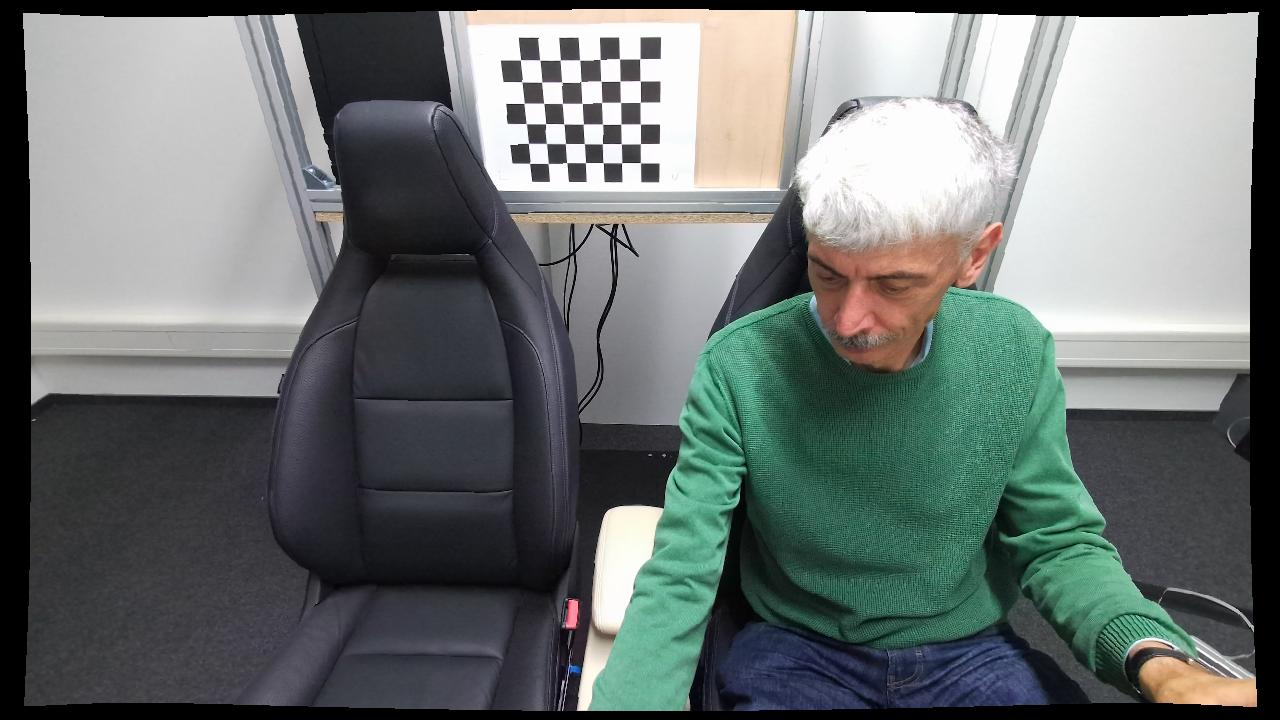Distracted: (586, 99, 1119, 709)
